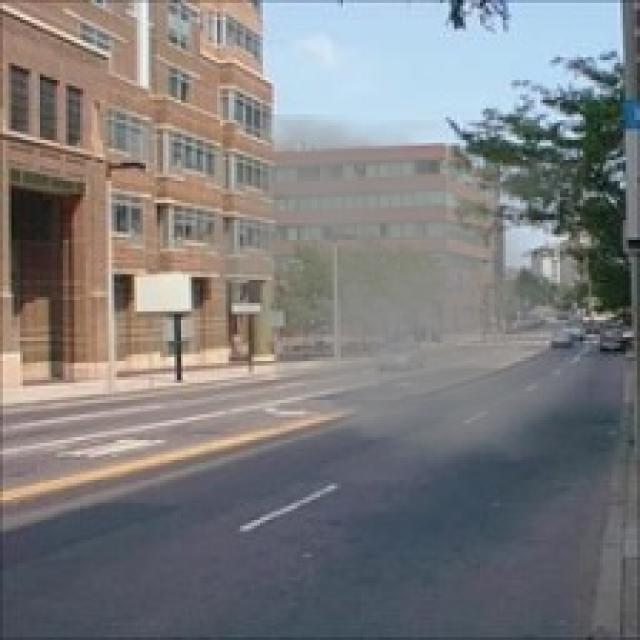Smoke: (182, 114, 588, 463)
